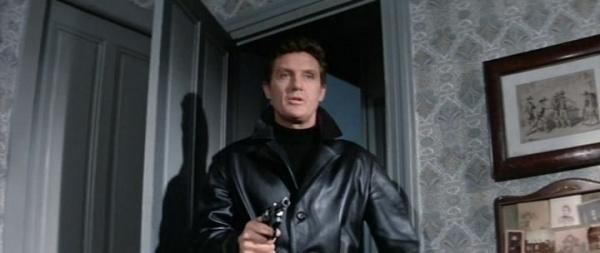Gun: (260, 196, 291, 241)
